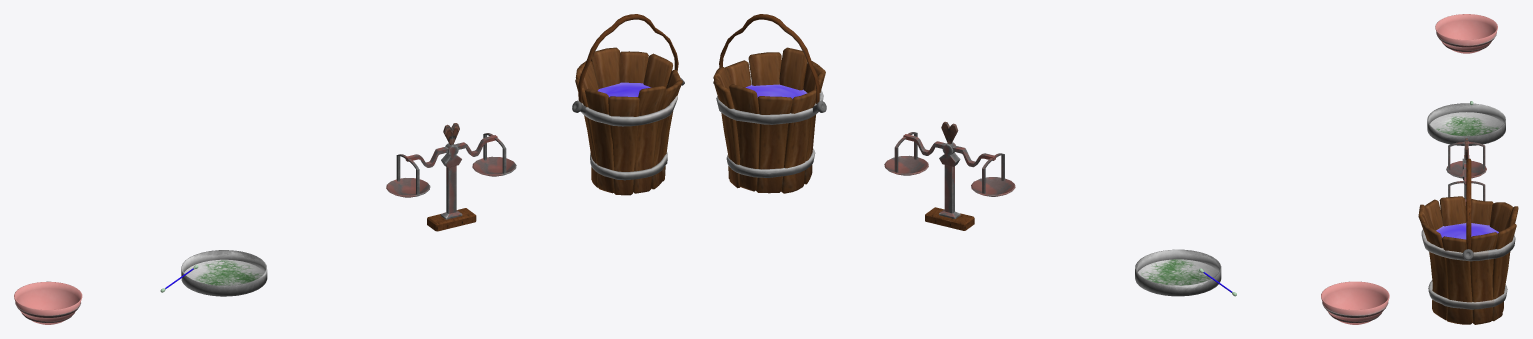
Rendered from Balde com agua.fbx.
3 views of the same model, side by side, from view 1: azimuth 30°, elevation 25°; view 2: azimuth 150°, elevation 25°; view 3: azimuth 270°, elevation 25° (orthographic). The views are drawn at different scales.
Visible parts, largest first — view 1: Cube.016, Circle.005, Cylinder.002, Sphere.002; view 2: Cube.016, Circle.005, Cylinder.002, Sphere.002; view 3: Cube.016, Cylinder.002, Sphere.002, Circle.005.
Part boxes in pixels (<box>): Cube.016: <box>572,14,684,195</box>; Circle.005: <box>386,123,516,231</box>; Cylinder.002: <box>181,250,267,296</box>; Sphere.002: <box>14,281,82,324</box>; Cube.016: <box>713,14,826,193</box>; Circle.005: <box>884,121,1015,230</box>; Cylinder.002: <box>1135,249,1221,296</box>; Sphere.002: <box>1321,281,1389,324</box>; Cube.016: <box>1418,158,1518,324</box>; Cylinder.002: <box>1427,103,1505,145</box>; Sphere.002: <box>1435,14,1497,53</box>; Circle.005: <box>1446,138,1486,205</box>.
Bounding box in the file's own units: 412 × 97.31 × 58.29.
1 material, 1 textured.
